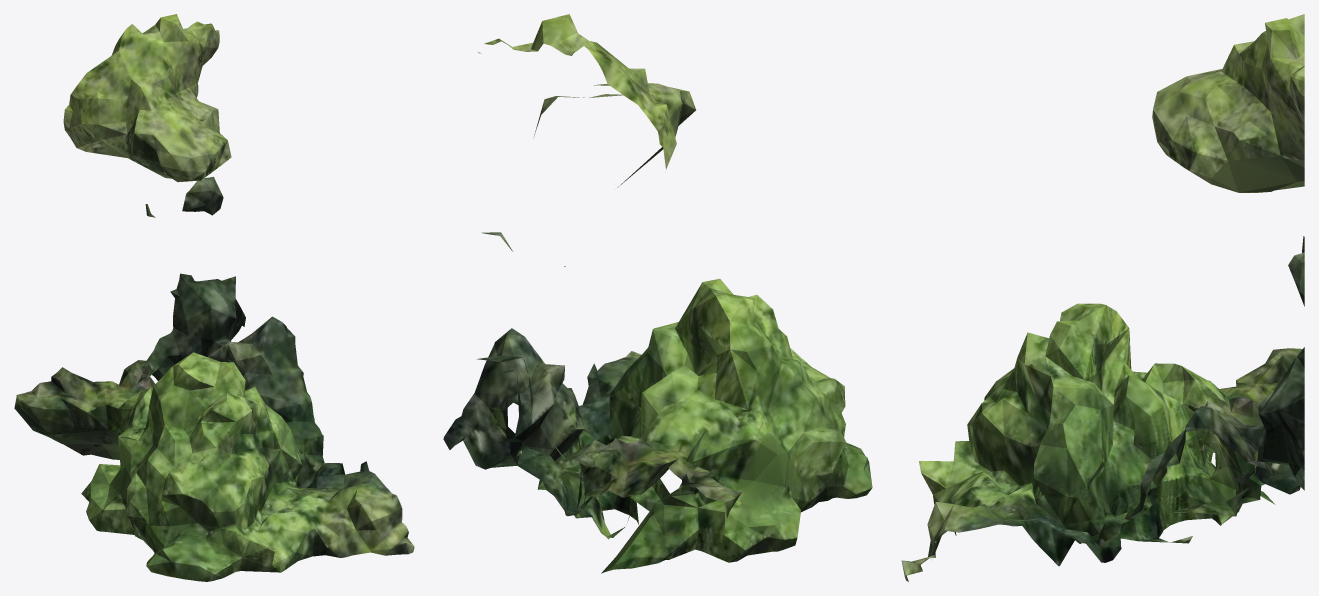
3 renders of one model, left to right at view 1: azimuth 30°, elevation 25°; view 2: azimuth 150°, elevation 25°; view 3: azimuth 270°, elevation 25°, orthographic. The views are drawn at different scales.
Bounding box in the file's own units: 12.78 × 23.2 × 16.56.
Materials: 2 (2 with a texture image).
